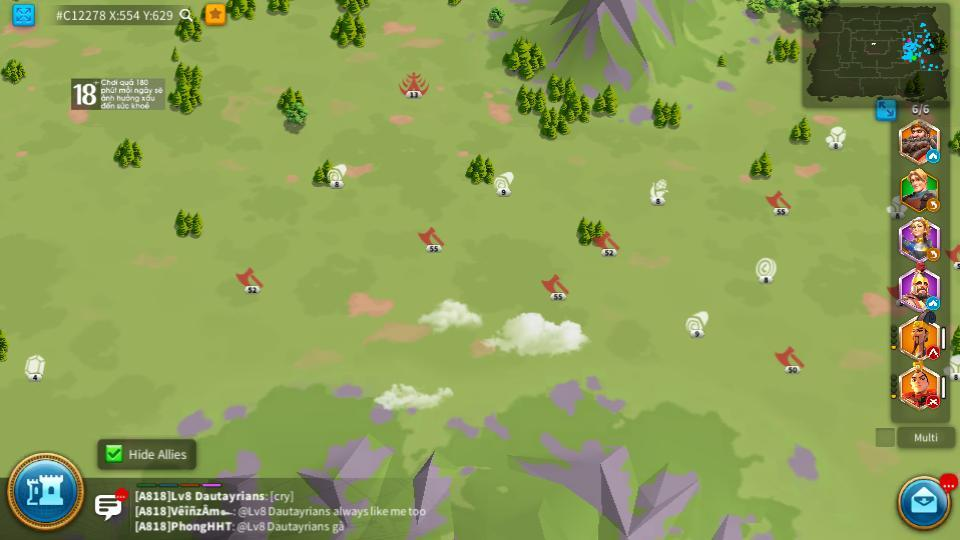gem-z-out: (23, 355, 48, 380)
march_attacking: (925, 395, 941, 407), (925, 348, 938, 359)
march_idle: (927, 151, 940, 162), (925, 297, 938, 307)
march_returning: (926, 248, 940, 261), (927, 201, 941, 212)
